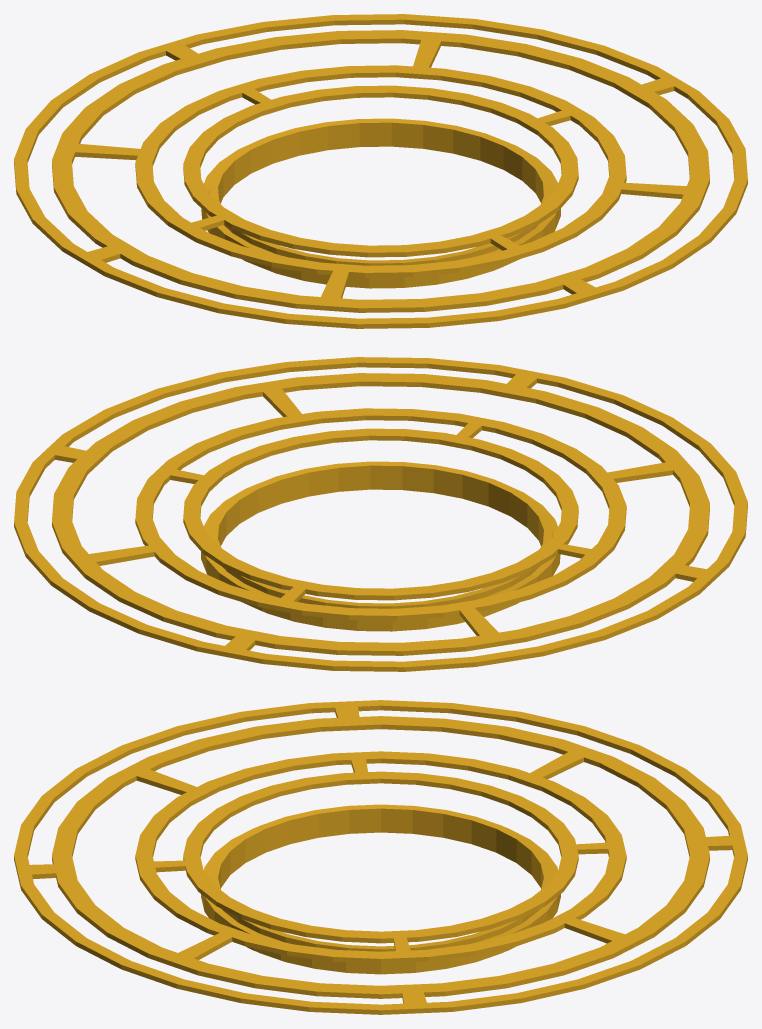
The model's file is roof_gold_line.fbx.
The picture shows the model from 3 angles, top to bottom: view 1: azimuth 30°, elevation 25°; view 2: azimuth 150°, elevation 25°; view 3: azimuth 270°, elevation 25°; orthographic projection.
Visible parts, largest first — view 1: Circle.022; view 2: Circle.022; view 3: Circle.022.
Boxes of the visible parts, <box> form: Circle.022: <box>14,14,747,328</box>; Circle.022: <box>14,357,747,671</box>; Circle.022: <box>14,700,747,1014</box>.
Size of the model in its own units: 2223 by 2223 by 156.
